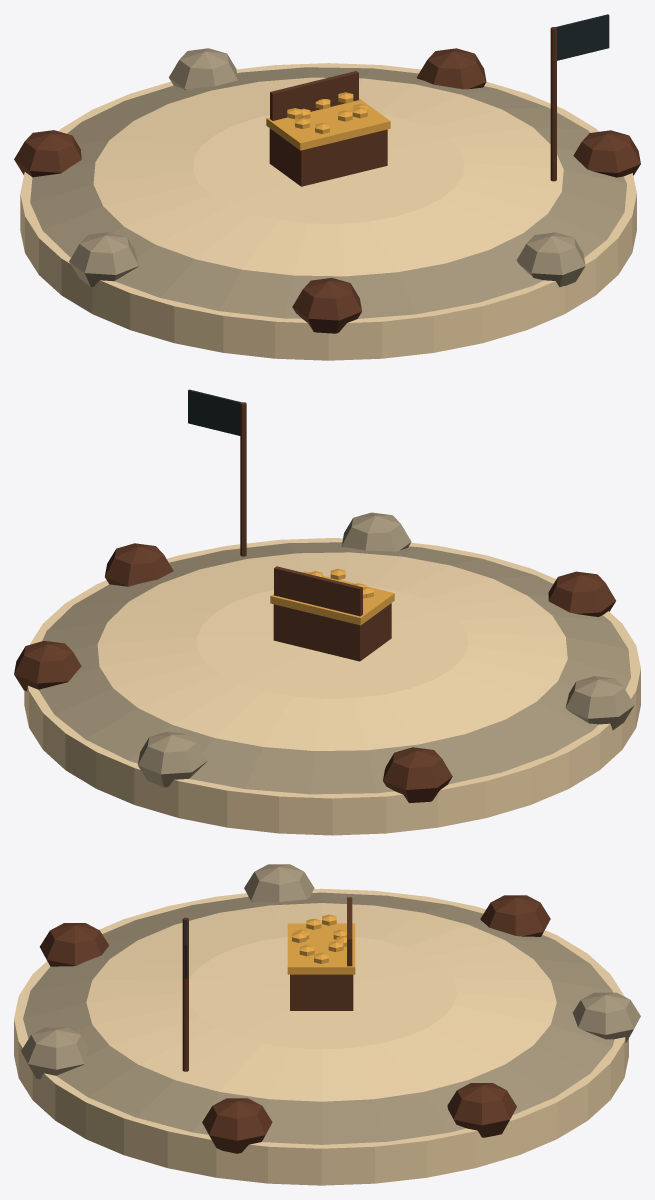
The model's file is ParkParkTreasureMound.obj.
3 renders of one model, top to bottom at view 1: azimuth 30°, elevation 25°; view 2: azimuth 150°, elevation 25°; view 3: azimuth 270°, elevation 25°, orthographic.
Visible parts, largest first — view 1: ParkParkTreasureMound; view 2: ParkParkTreasureMound; view 3: ParkParkTreasureMound.
Part boxes in pixels (box(x1,y1,x2,y2)): ParkParkTreasureMound: box(14, 14, 640, 360); ParkParkTreasureMound: box(14, 389, 640, 835); ParkParkTreasureMound: box(14, 864, 640, 1185).
Size of the model in its own units: 13.77 by 5.2 by 13.86.
